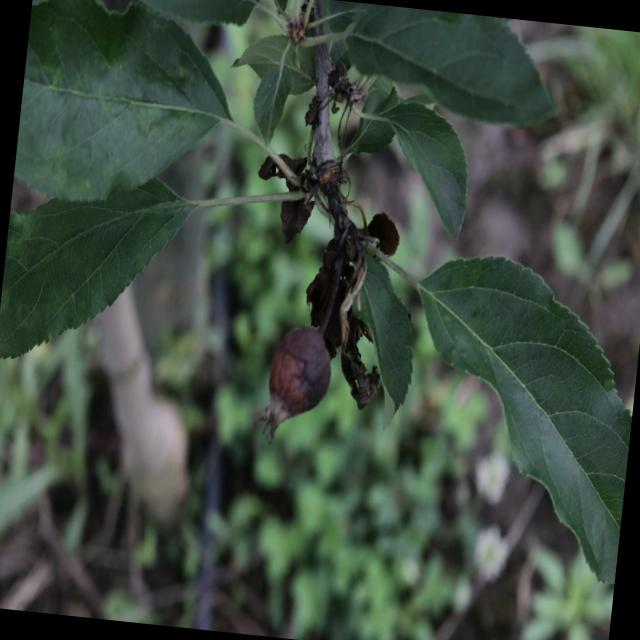-FireBlight-: (258, 138, 406, 418)
